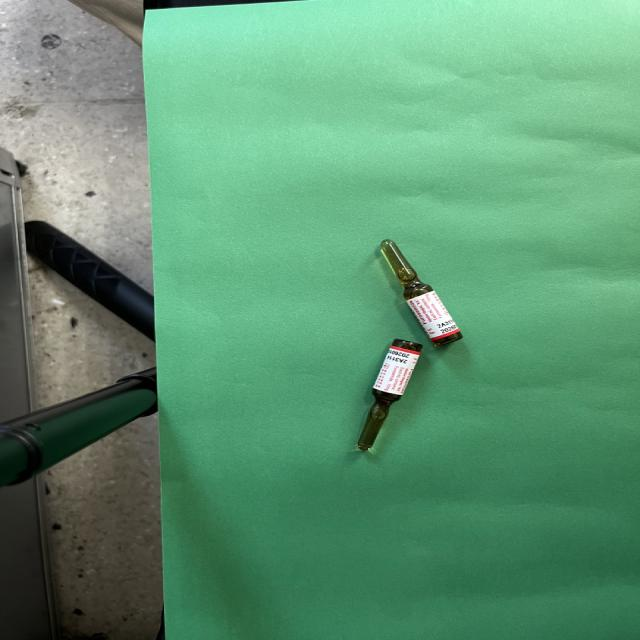Ampoules: (381, 240, 461, 346), (357, 338, 421, 450)
